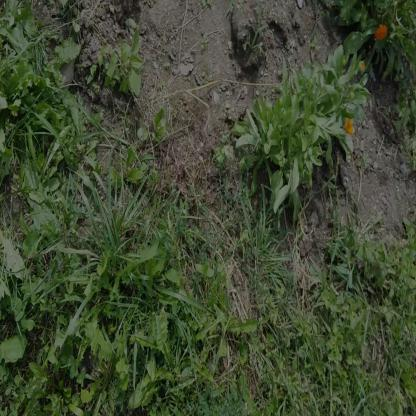marigold: (374, 22, 387, 40)
